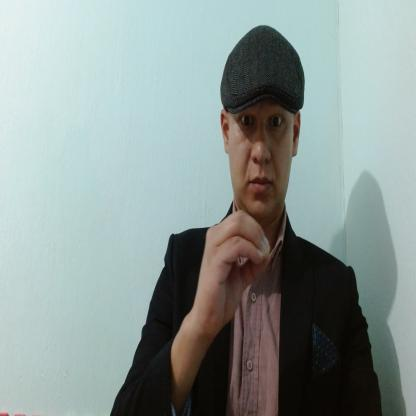O: (193, 207, 273, 334)
